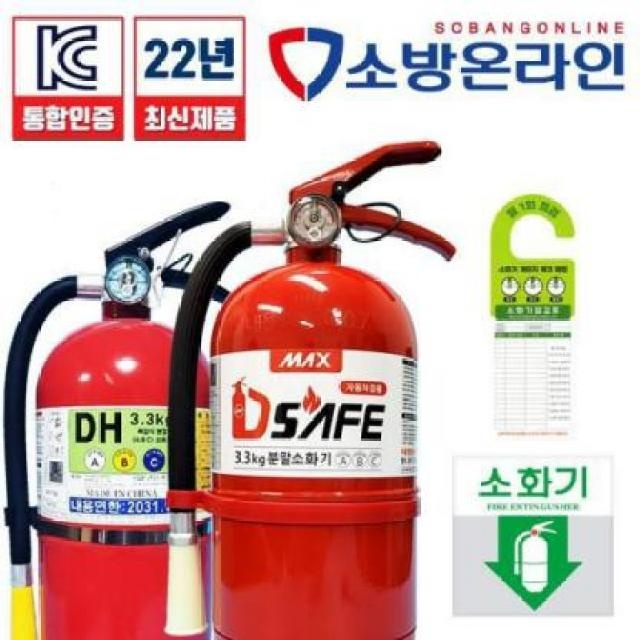fire extinguisher: (163, 138, 459, 640), (1, 201, 233, 640)
